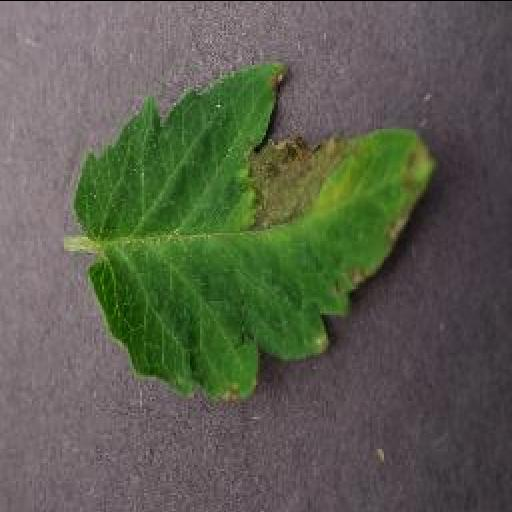disease_tomato: (70, 62, 440, 400)
